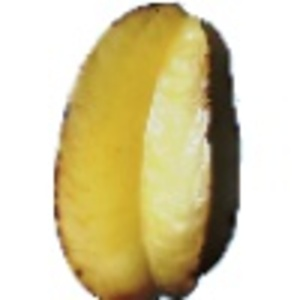carambola: (53, 2, 244, 300)
